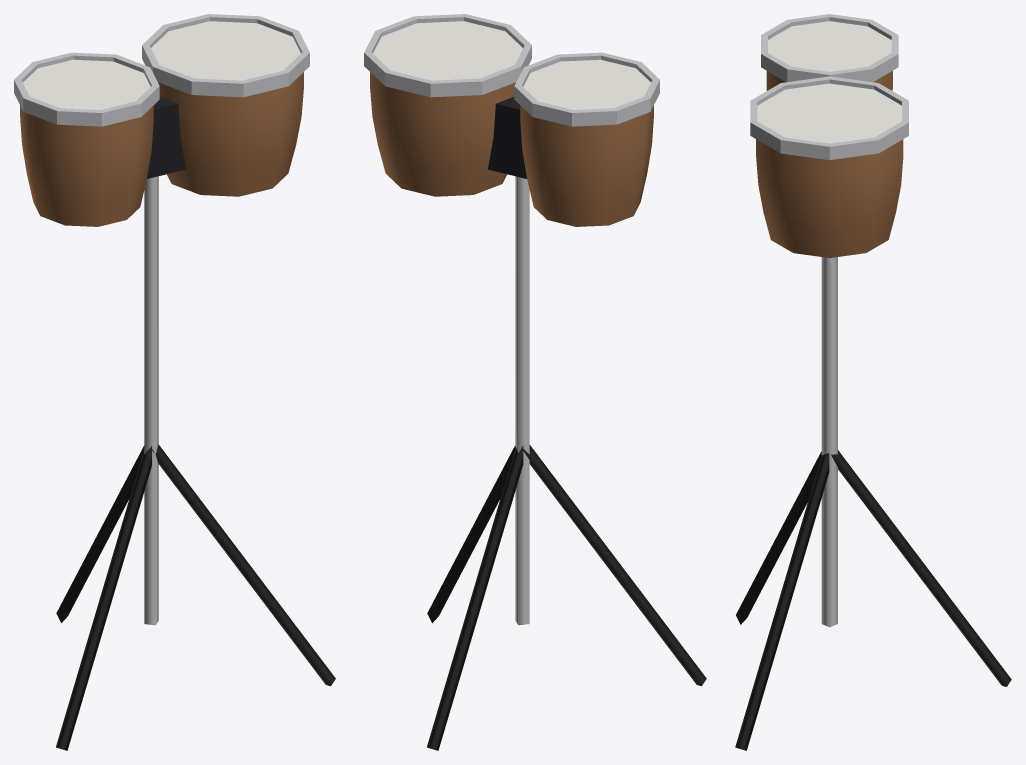
File: bongos-low.glb
3 renders of one model, left to right at view 1: azimuth 30°, elevation 25°; view 2: azimuth 150°, elevation 25°; view 3: azimuth 270°, elevation 25°, orthographic.
Visible parts, largest first — view 1: shell-wood, metal, frame, head; view 2: shell-wood, metal, frame, head; view 3: shell-wood, metal, head, frame.
Part boxes in pixels (x1,y1,x2,y2): shell-wood: (20, 72, 303, 226); metal: (14, 14, 309, 625); frame: (56, 97, 335, 750); head: (23, 21, 300, 109); shell-wood: (370, 72, 653, 226); metal: (364, 14, 659, 625); frame: (426, 97, 706, 750); head: (373, 21, 650, 109); shell-wood: (756, 71, 903, 257); metal: (750, 14, 908, 627); head: (757, 21, 901, 143); frame: (735, 450, 1011, 750).
Size of the model in its own units: 0.4406 by 0.9147 by 0.375.
